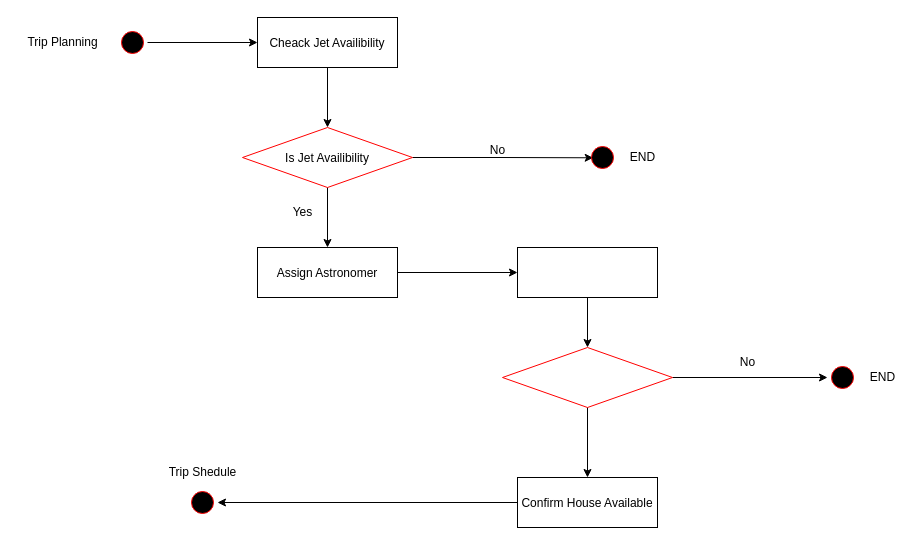
The diagram is 924 pixels wide and 545 high, and some of its shapes have lost their labels. Each missing label, with the box of its shape:
Are Dates Available: (502, 346, 672, 408)
Shedule Trip Dates: (516, 246, 658, 298)
